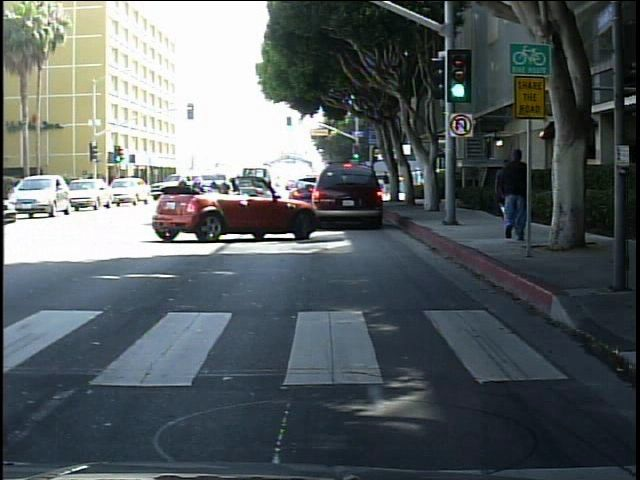person: (496, 140, 531, 241), (493, 148, 519, 227)
